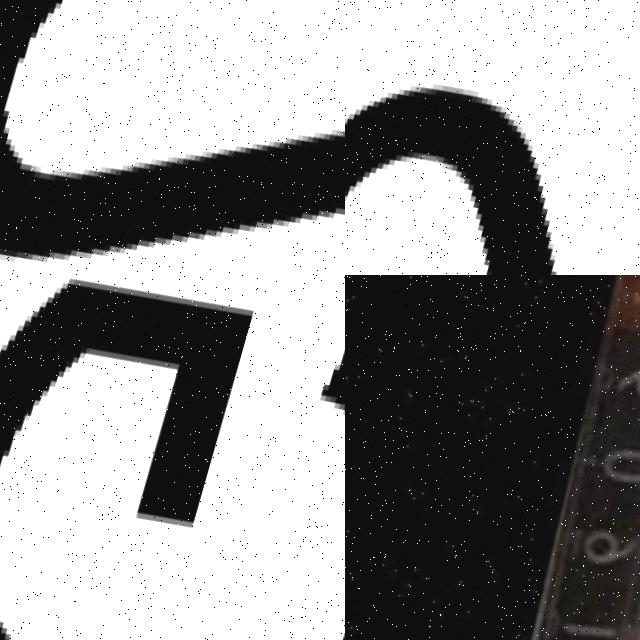0: (595, 442, 640, 505)
1: (557, 617, 624, 640), (623, 285, 640, 337)
6: (572, 525, 640, 589)
9: (605, 361, 640, 425)
G: (0, 275, 345, 640)
S: (345, 0, 640, 275)
U: (0, 0, 345, 275)
